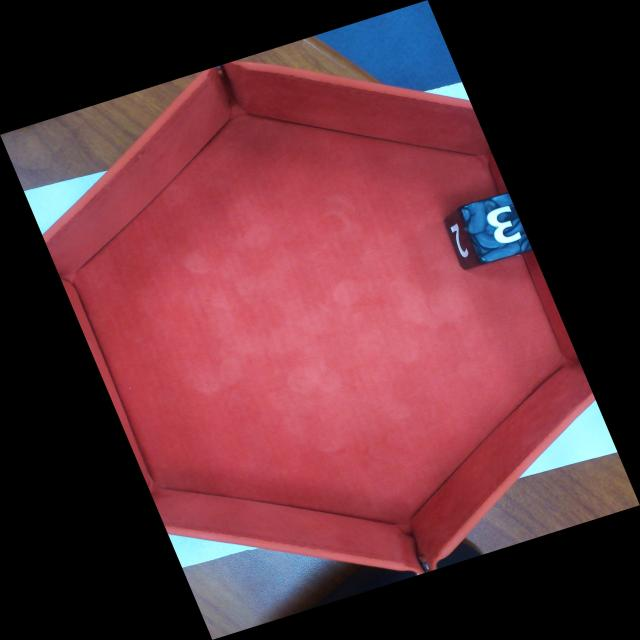dice: (458, 191, 539, 259)
